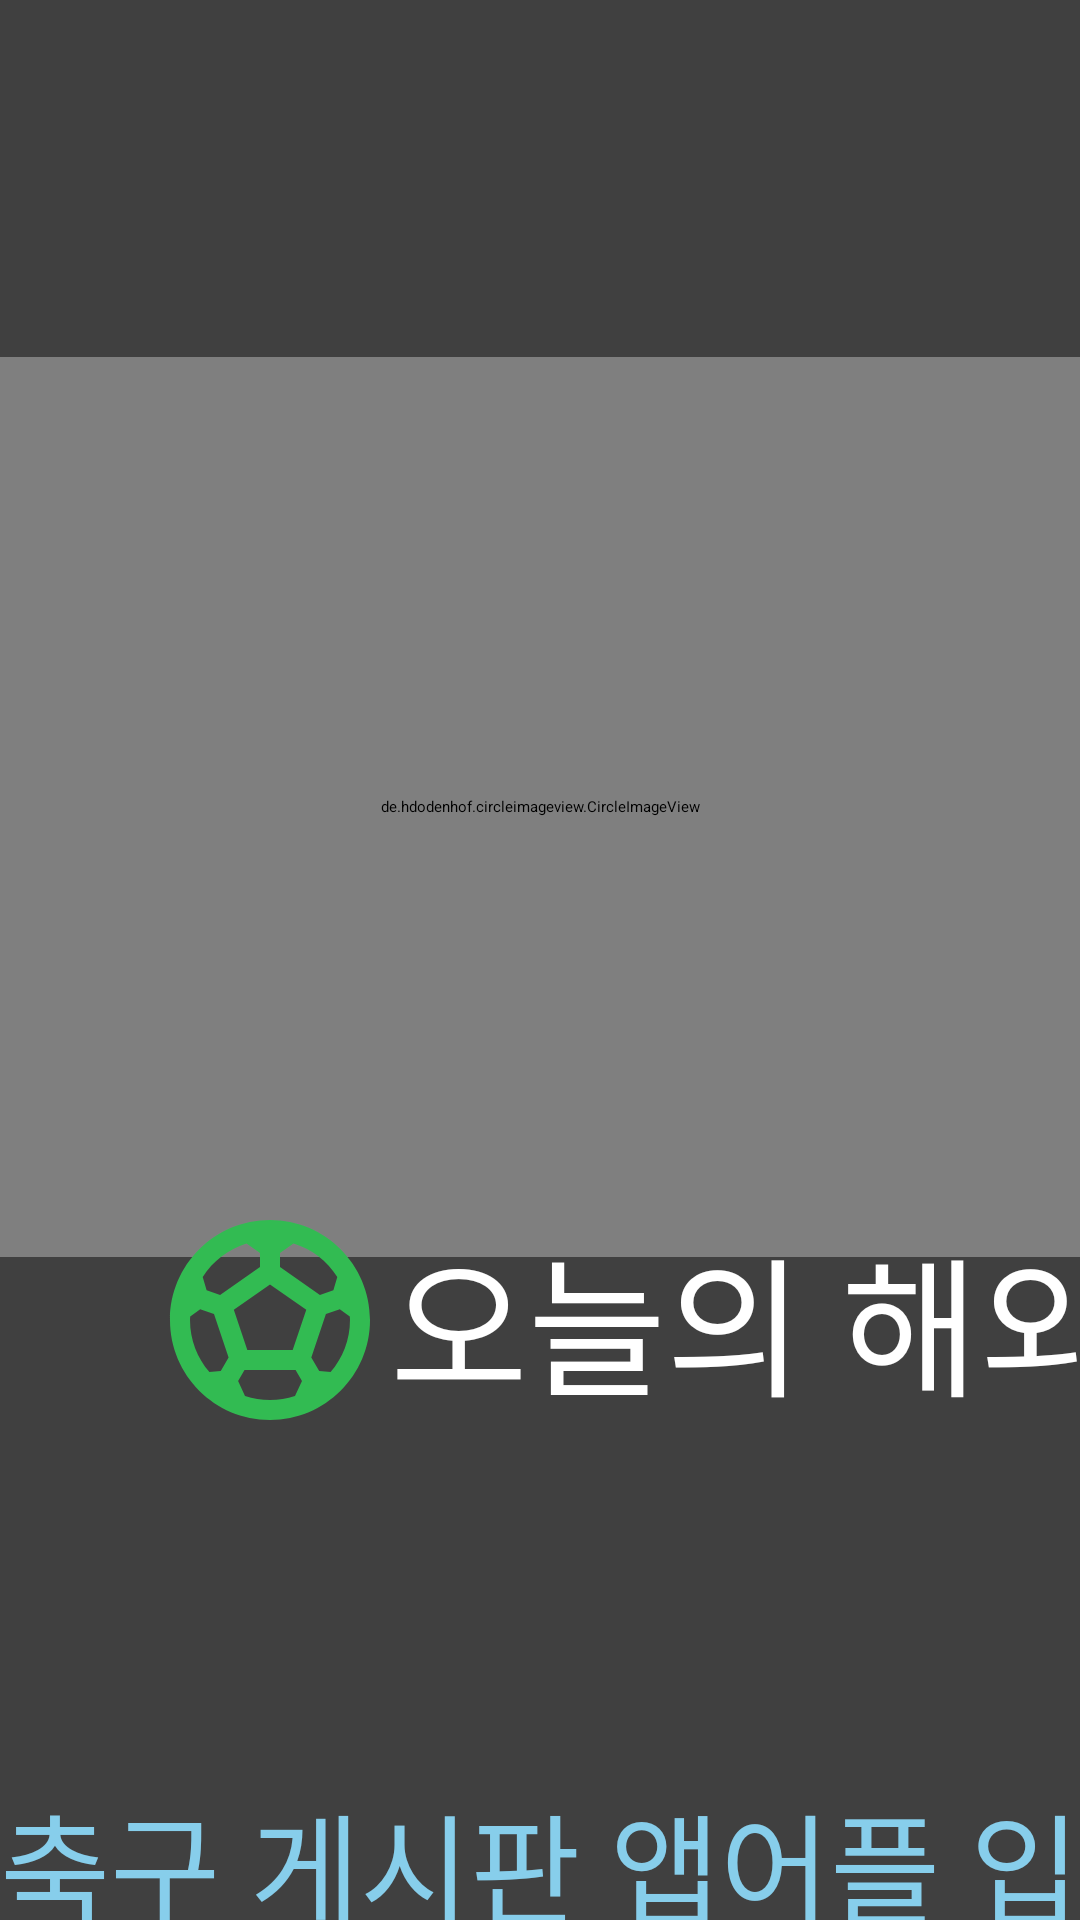

Icon click points for this 1080x1920 phone screenshot, format (x=x, y=y):
sports soccer: (x=270, y=1310)
